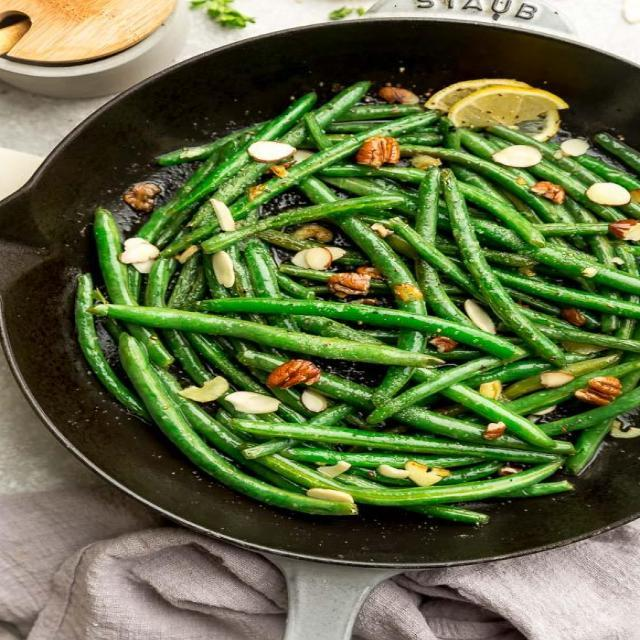Beans: (76, 79, 639, 541)
